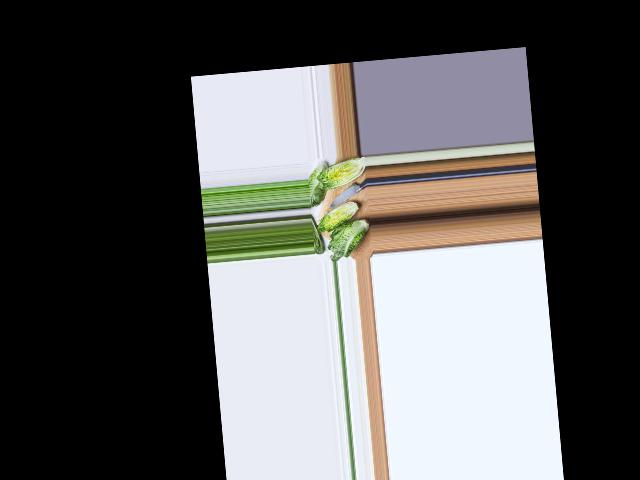lettuce: (308, 161, 330, 206)
